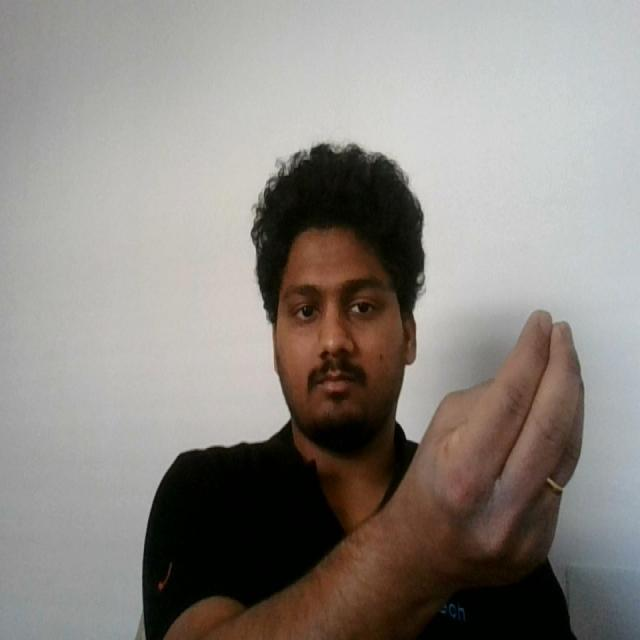Please: (395, 298, 594, 596)
